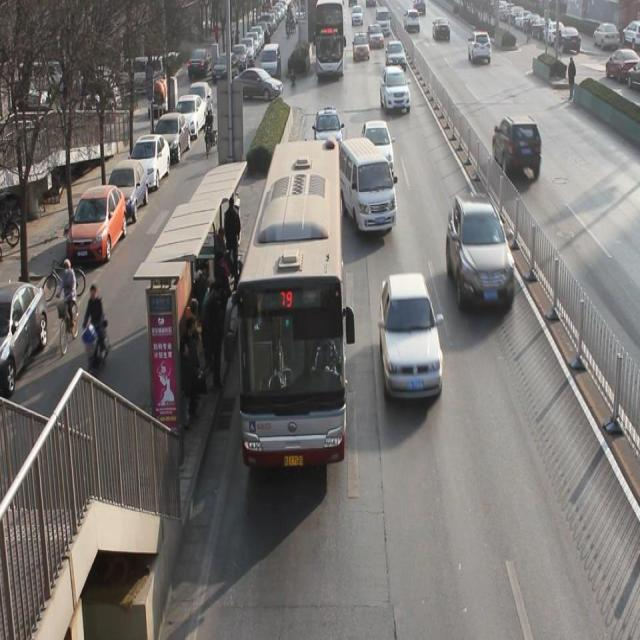car: (446, 191, 519, 316), (376, 275, 446, 402), (493, 120, 541, 182), (362, 122, 398, 180), (381, 66, 410, 116), (316, 109, 341, 152), (468, 30, 492, 65), (386, 43, 408, 72), (366, 22, 384, 51), (432, 18, 451, 41), (352, 33, 367, 55), (405, 15, 421, 32)
truck: (336, 144, 396, 234)
van: (236, 138, 344, 468), (314, 1, 342, 72)
